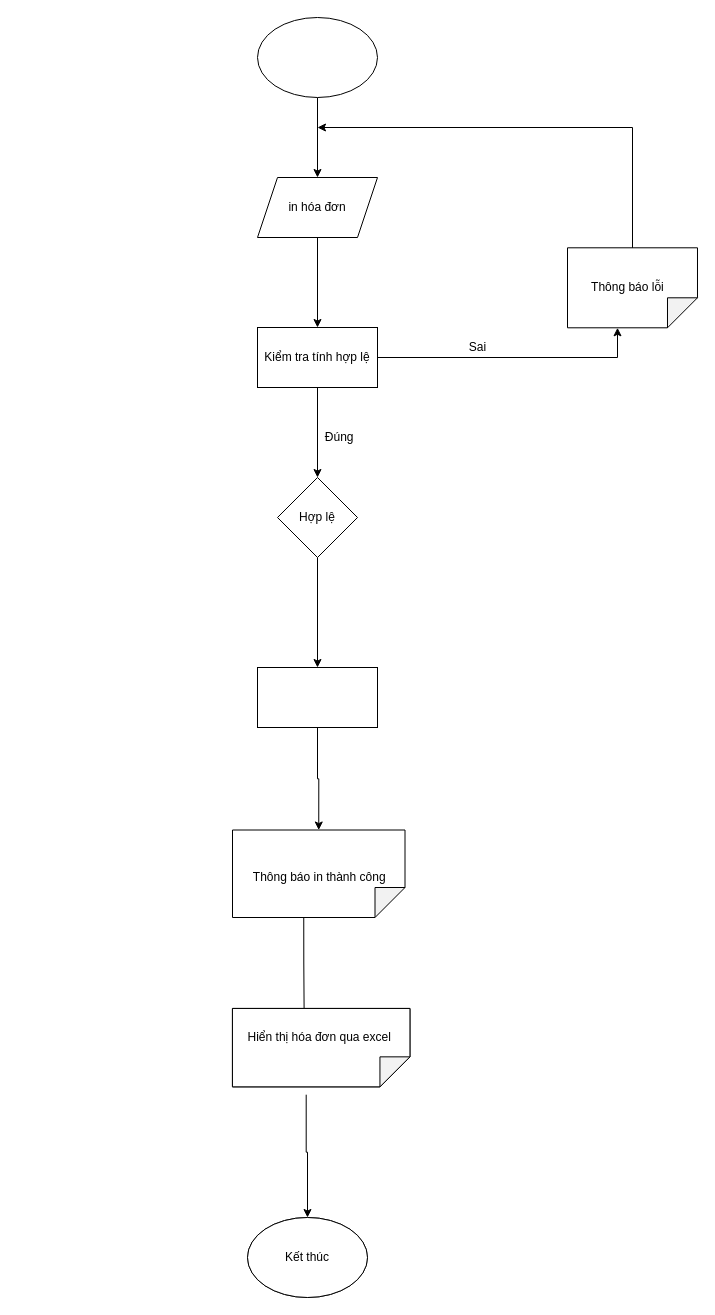
Image size: 715x1315. Some labels were removed from this diagram. Each missing label, with the centre of its shape:
Bắt đầu: [317,57]
cập nhập dữ liệu vào database: [317,697]
